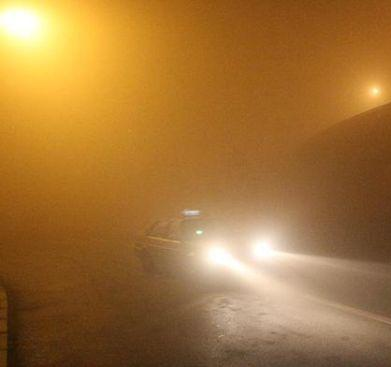car: (133, 206, 275, 283)
